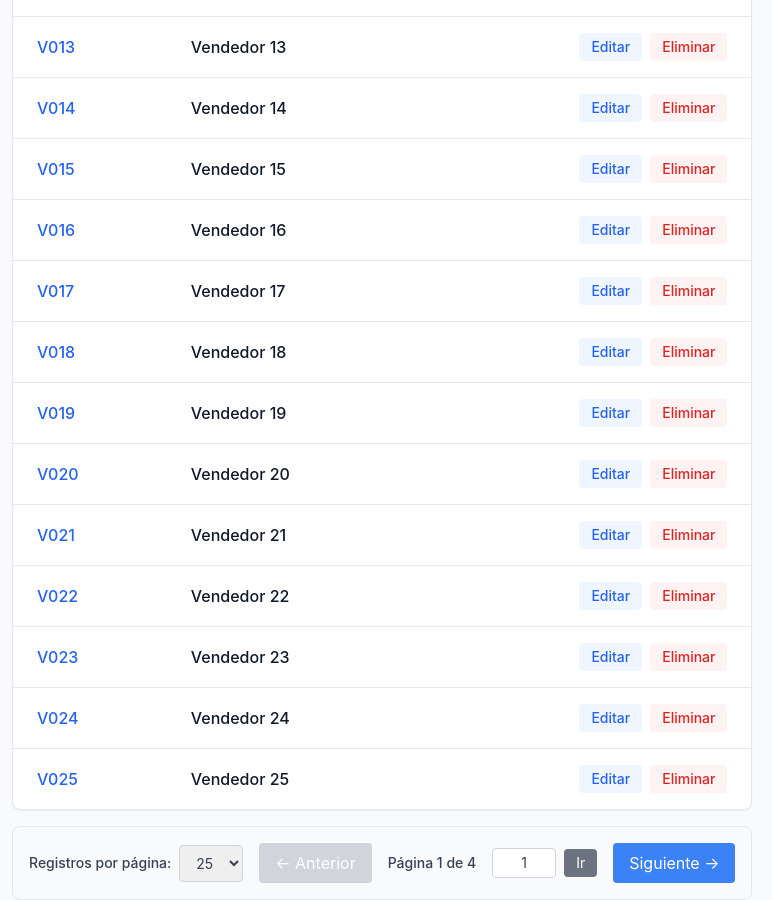
Test: SellersModule Unit Tests › Search/Filters › should reset to page 1 when searching
(page scrolled)
Click the button "Siguiente →". click: (674, 863)
box: [613,843,736,883]
(page scrolled)
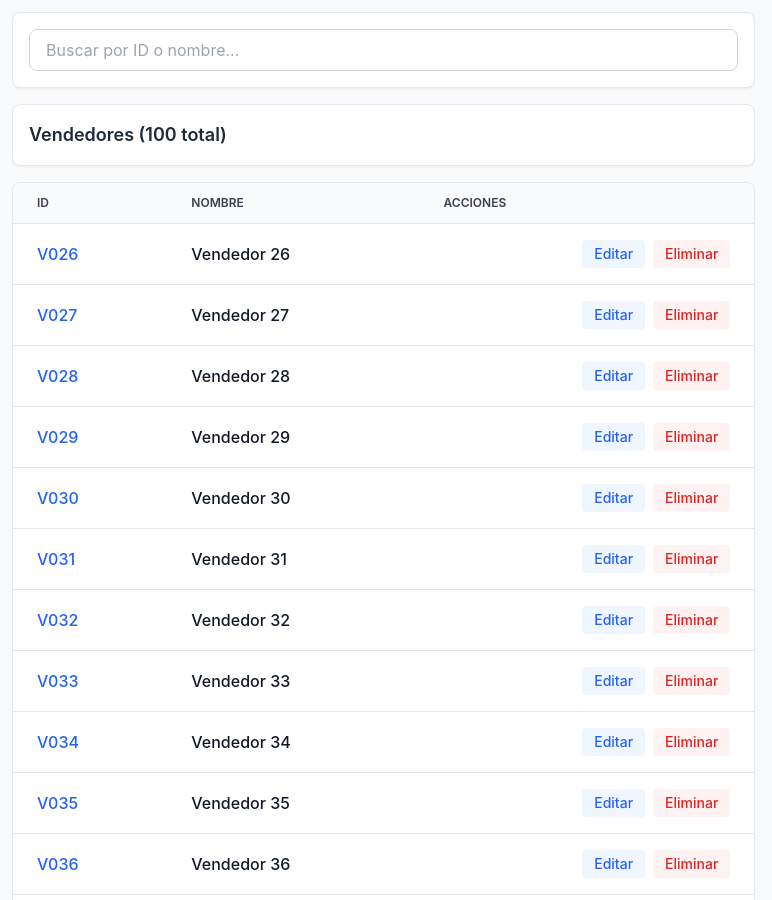
Type "Vendedor 1" into the field with placeholder "Buscar por ID o nombre...". click: (384, 50)
box: [29,29,738,71]
(page scrolled)
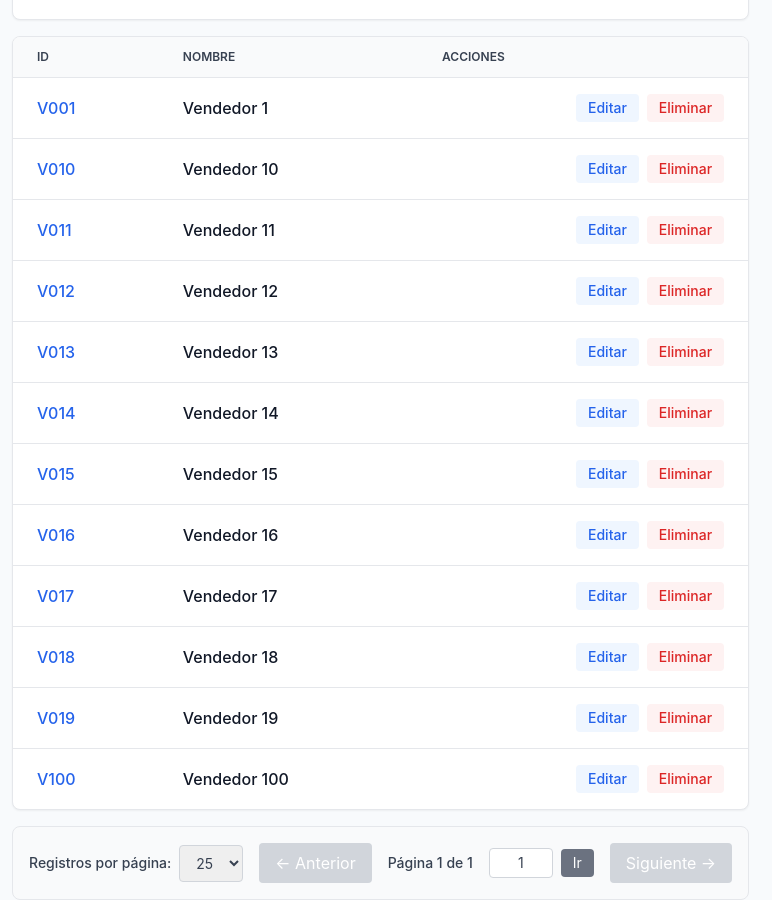
Result: the text "Página 1 de 1" is shown at [388,853,473,873]
